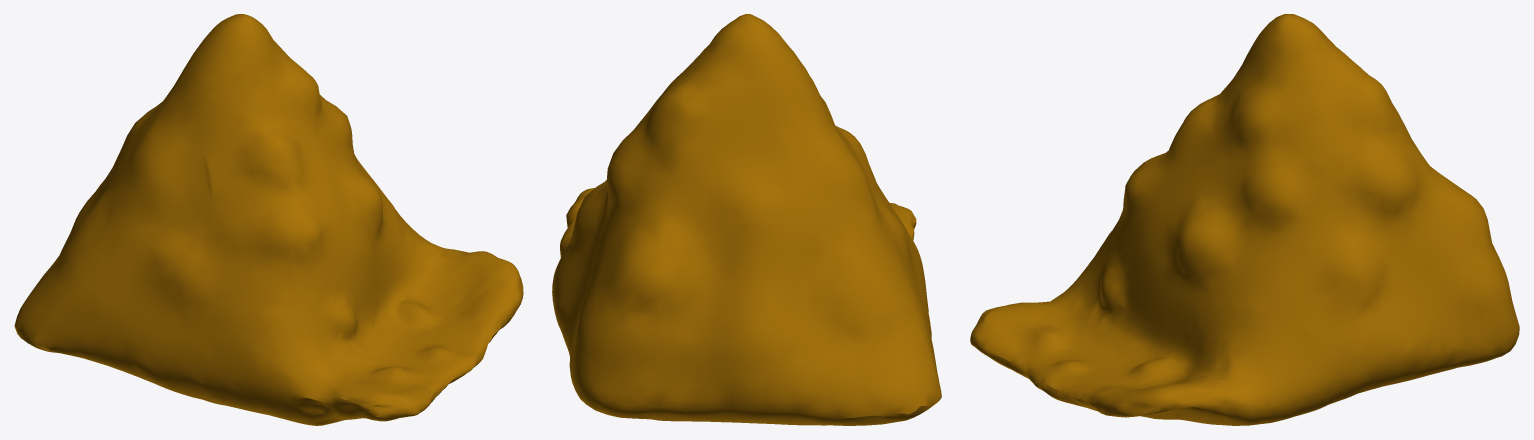
File: SAMOSA.fbx
3 views of the same model, side by side, from view 1: azimuth 30°, elevation 25°; view 2: azimuth 150°, elevation 25°; view 3: azimuth 270°, elevation 25° (orthographic). The views are drawn at different scales.
Visible parts, largest first — view 1: samosa; view 2: samosa; view 3: samosa.
Boxes of the visible parts, x1,y1,x2,y2 form: samosa: [14, 14, 523, 425]; samosa: [552, 14, 941, 425]; samosa: [970, 14, 1519, 425].
Bounding box in the file's own units: 234 × 188 × 255.
